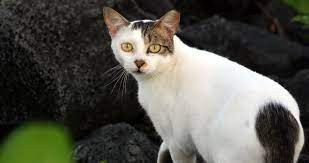cat: (88, 3, 306, 159)
